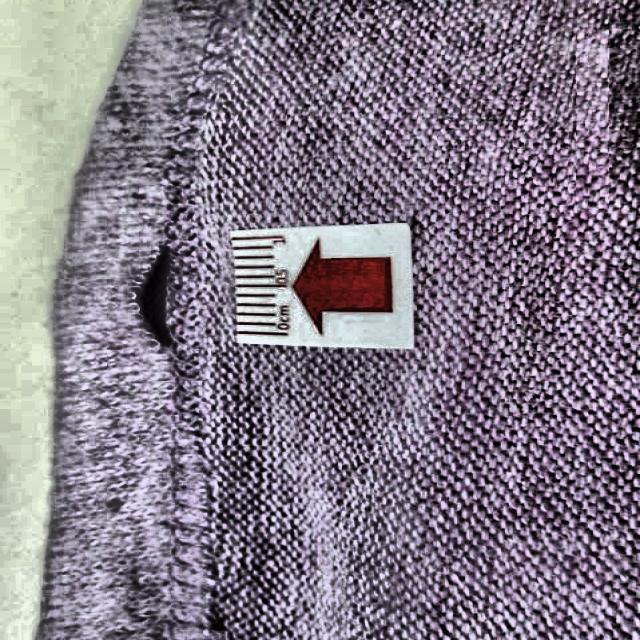seam: (121, 214, 202, 390)
